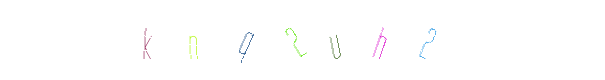2: (239, 0, 319, 80), (318, 0, 398, 80)
H: (264, 0, 344, 80)
K: (209, 0, 289, 80)
N: (219, 0, 299, 80)
Q: (232, 0, 312, 80)
U: (262, 0, 342, 80)
